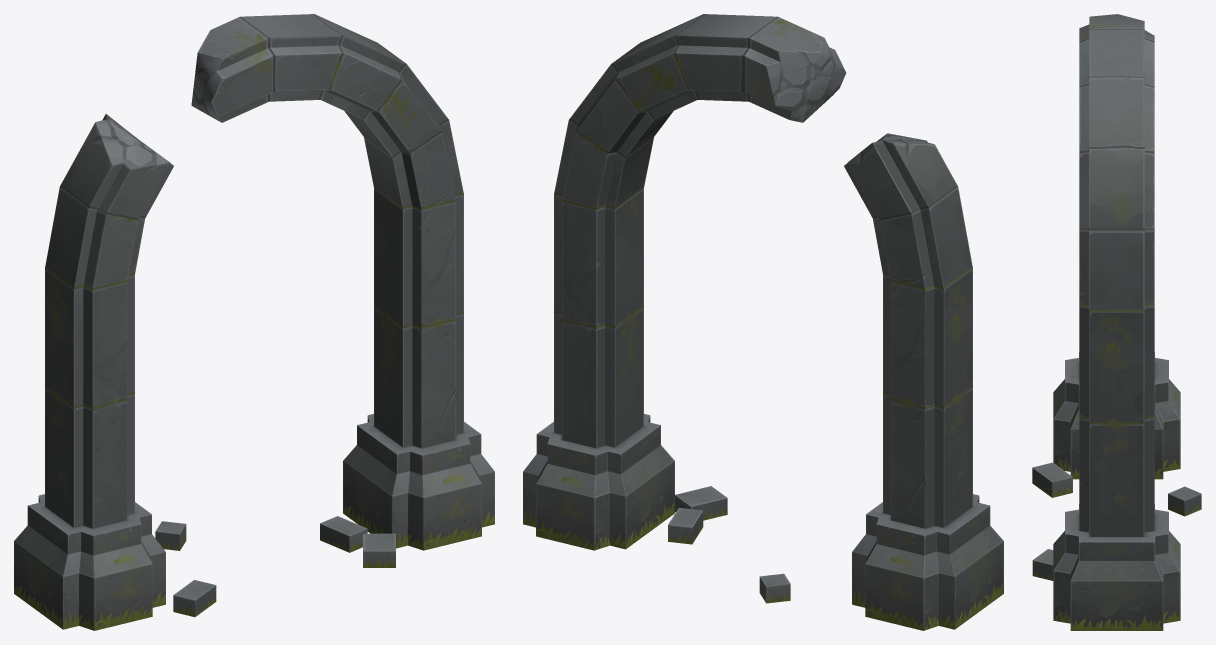
The model's file is Pr_ArchGate_02.FBX.
3 views of the same model, side by side, from view 1: azimuth 30°, elevation 25°; view 2: azimuth 150°, elevation 25°; view 3: azimuth 270°, elevation 25° (orthographic). The views are drawn at different scales.
Parts seen in each view (by area): view 1: Pr_ArchGate_02; view 2: Pr_ArchGate_02; view 3: Pr_ArchGate_02.
Boxes of the visible parts, left/top/right/bottom form: Pr_ArchGate_02: left=14, top=14, right=494, bottom=630; Pr_ArchGate_02: left=523, top=14, right=1003, bottom=630; Pr_ArchGate_02: left=1032, top=14, right=1201, bottom=630.
Bounding box in the file's own units: 4.68 × 5.5 × 1.68.
Materials: 1 (1 with a texture image).
